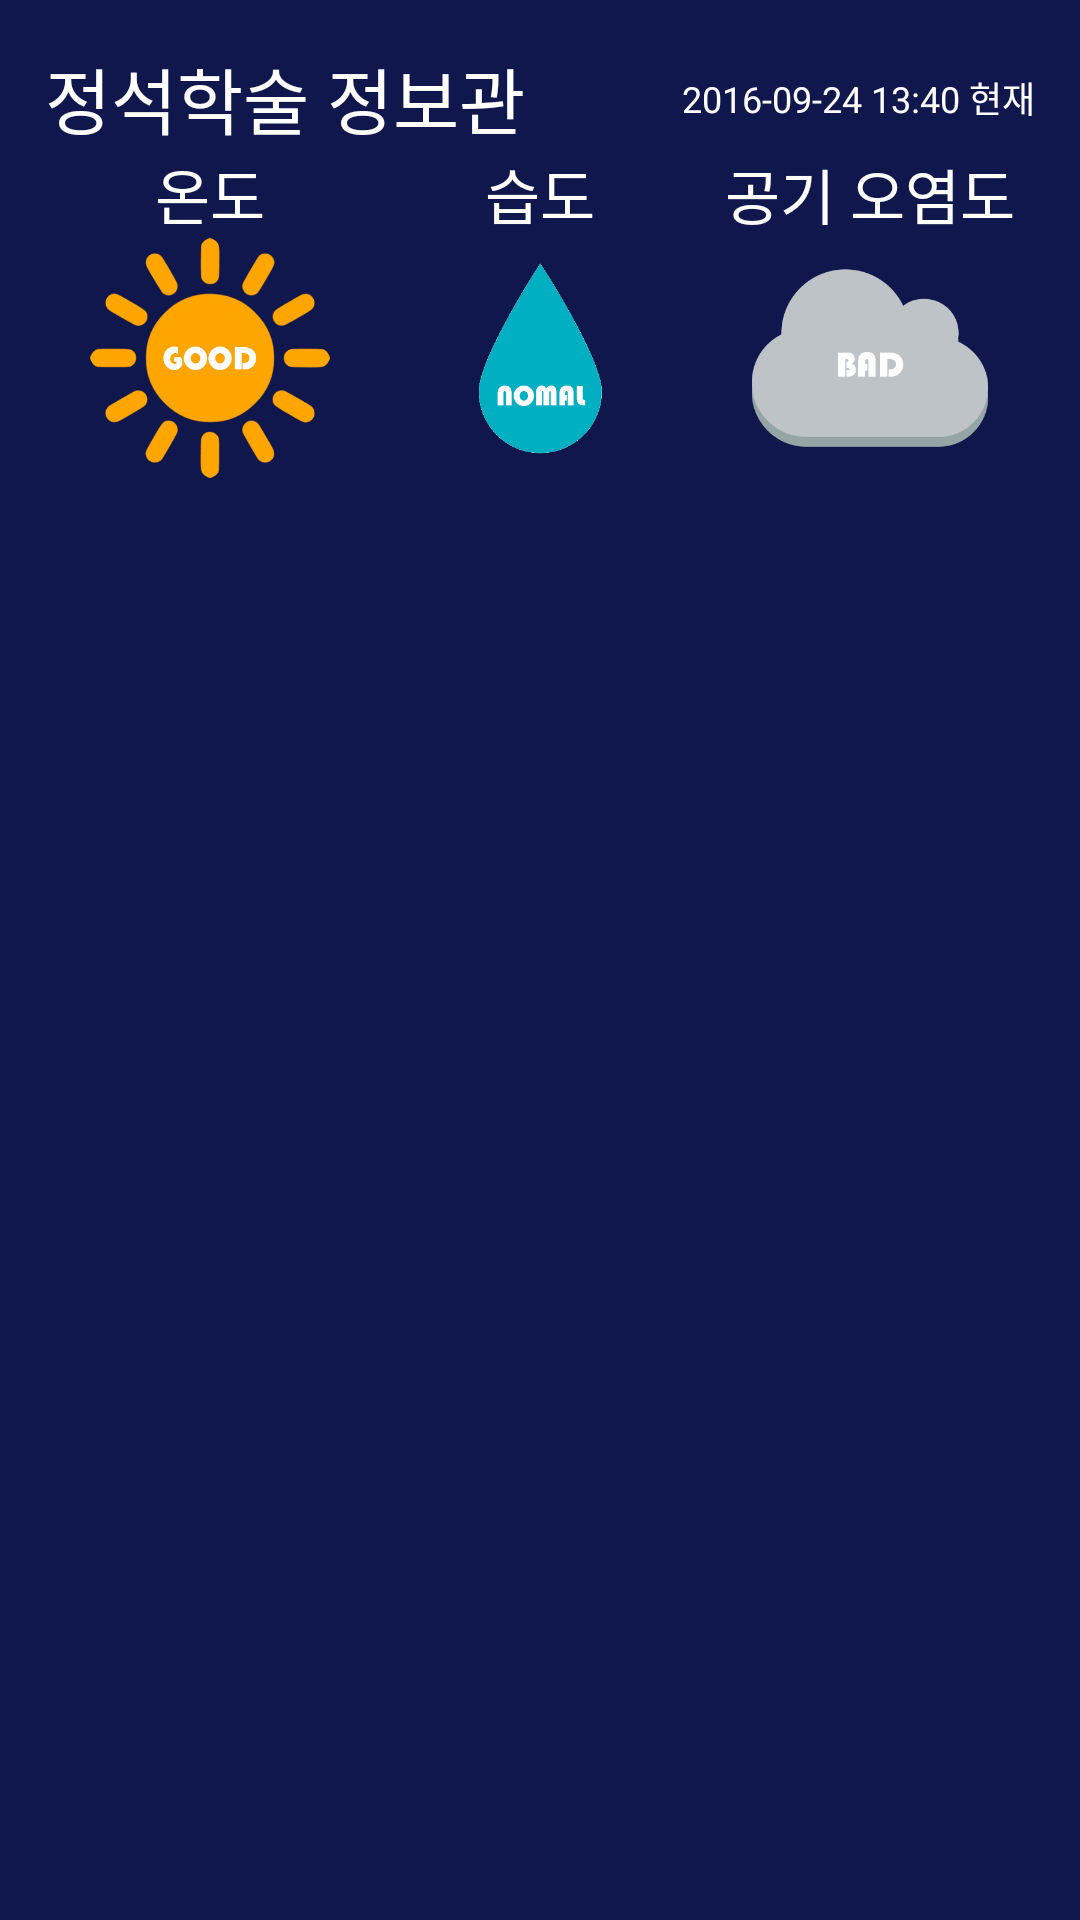

Where to tap for icons on this 1080px×1920px app screen, as point (x, y):
cloud bad: point (870, 358)
raindrop: point (540, 358)
sun good: point (210, 358)
